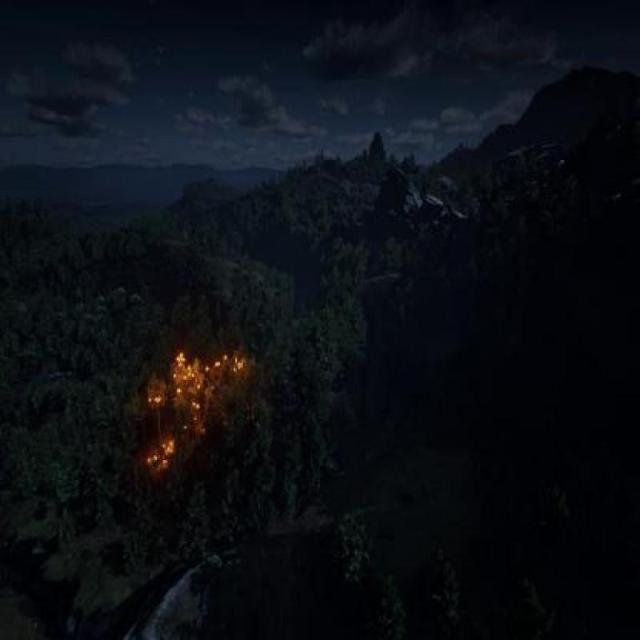Fire: (138, 345, 204, 480), (208, 326, 252, 412)
